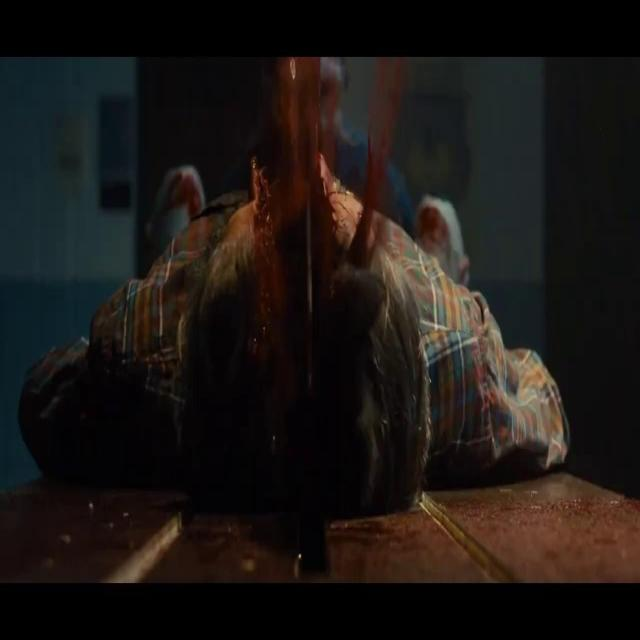flood: (243, 65, 402, 278)
